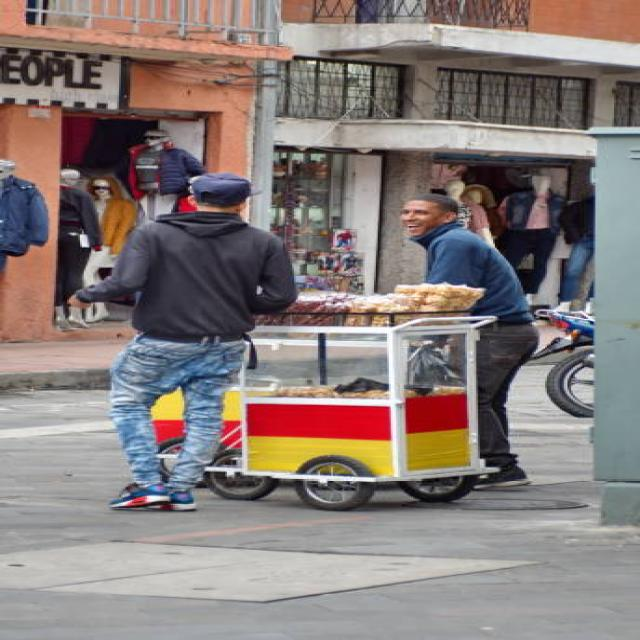Emperan: (101, 191, 537, 519)
